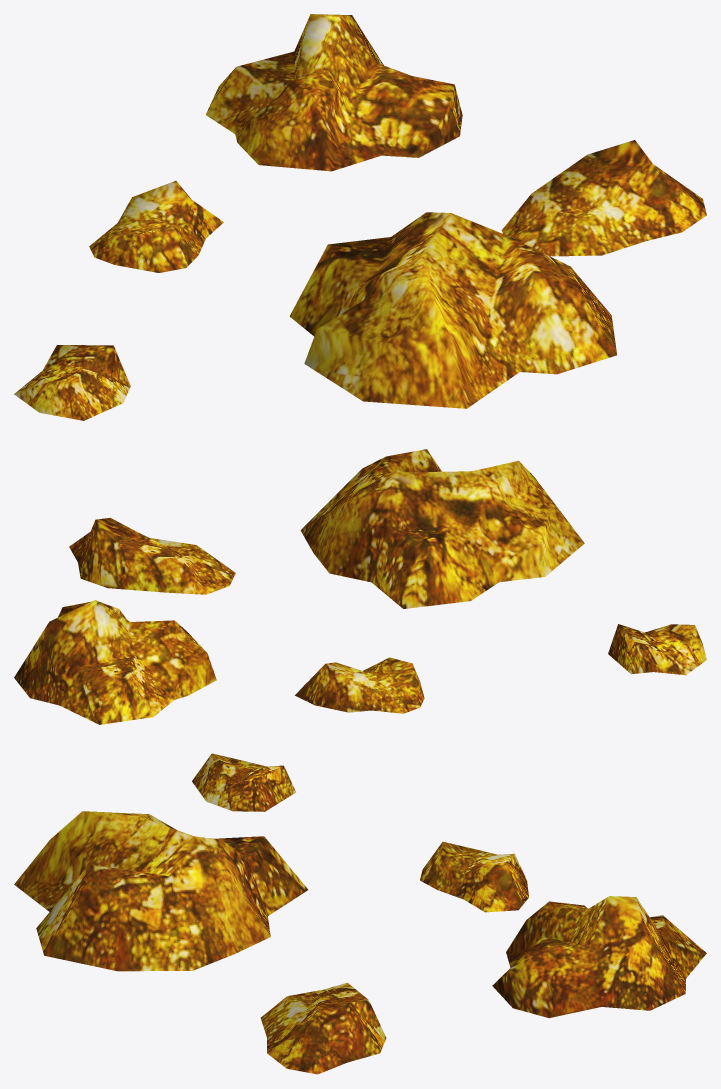
File: ts_jbbjk000.FBX
3 renders of one model, top to bottom at view 1: azimuth 30°, elevation 25°; view 2: azimuth 150°, elevation 25°; view 3: azimuth 270°, elevation 25°, orthographic. The views are drawn at different scales.
Parts seen in each view (by area): view 1: ts_jbbjk001, ts_jbbjk002, ts_jbbjk004, ts_jbbjk003, ts_jbbjk005; view 2: ts_jbbjk001, ts_jbbjk002, ts_jbbjk004, ts_jbbjk003, ts_jbbjk005; view 3: ts_jbbjk001, ts_jbbjk002, ts_jbbjk004, ts_jbbjk003, ts_jbbjk005.
Boxes of the visible parts, box(x1,y1,x2,y2) form: ts_jbbjk001: box(289, 212, 616, 408); ts_jbbjk002: box(206, 14, 462, 171); ts_jbbjk004: box(501, 140, 706, 256); ts_jbbjk003: box(89, 180, 223, 272); ts_jbbjk005: box(14, 345, 130, 420); ts_jbbjk001: box(300, 449, 584, 608); ts_jbbjk002: box(14, 600, 216, 724); ts_jbbjk004: box(69, 517, 235, 594); ts_jbbjk003: box(295, 657, 424, 713); ts_jbbjk005: box(608, 624, 706, 675); ts_jbbjk001: box(14, 811, 307, 971); ts_jbbjk002: box(492, 896, 706, 1017); ts_jbbjk004: box(260, 982, 386, 1074); ts_jbbjk003: box(420, 842, 528, 912); ts_jbbjk005: box(192, 753, 295, 811).
Bounding box in the file's own units: 189 × 29.38 × 182.
Materials: 1 (1 with a texture image).
